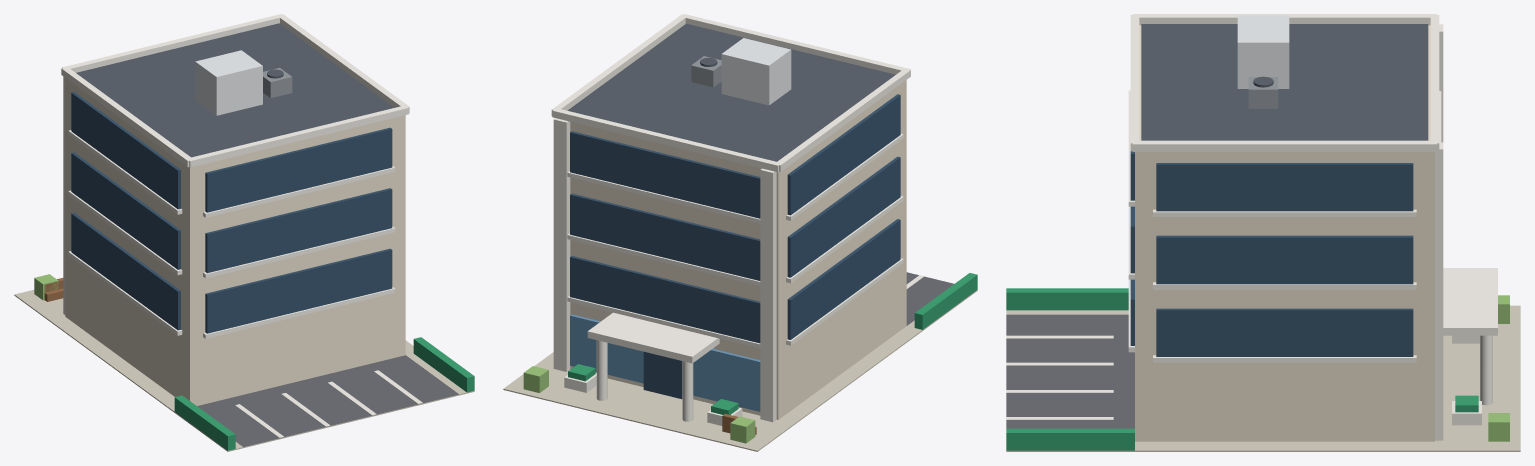
3 views of the same model, side by side, from view 1: azimuth 30°, elevation 25°; view 2: azimuth 150°, elevation 25°; view 3: azimuth 270°, elevation 25° (orthographic). The views are drawn at different scales.
Parts seen in each view (by area): view 1: block, window_band (×6), roof, car_park, parapet (×4), sill (×6), ground, plant_room, hedge (×2), pier, ac_unit_body; view 2: window_band (×6), block, roof, ground, pier (×2), parapet (×4), storefront, sill (×6), plant_room, canopy, door, hedge (+4 smaller); view 3: block, window_band (×3), roof, car_park, ground, parapet (×4), hedge (×2), sill (×3), canopy, plant_room, pier, column (+3 smaller).
Part boxes in pixels (box(x1,y1,x2,y2)): block: box(65, 78, 405, 405); window_band (×6): box(71, 92, 392, 333); roof: box(76, 23, 394, 157); car_park: box(197, 355, 458, 446); parapet (×4): box(61, 14, 409, 167); sill (×6): box(68, 130, 395, 338); ground: box(14, 289, 474, 451); plant_room: box(195, 50, 262, 115); hedge (×2): box(174, 337, 474, 450); pier: box(63, 76, 65, 314); ac_unit_body: box(263, 68, 292, 97); window_band (×6): box(570, 94, 900, 343); block: box(570, 80, 906, 419); roof: box(567, 23, 895, 161); ground: box(503, 290, 977, 451); pier (×2): box(553, 118, 776, 422); parapet (×4): box(551, 14, 910, 172); storefront: box(570, 314, 760, 411); sill (×6): box(567, 133, 903, 348); plant_room: box(721, 38, 791, 105); canopy: box(587, 312, 719, 363); door: box(643, 351, 682, 398); hedge: box(914, 273, 977, 329); block: box(1135, 25, 1434, 441); window_band (×3): box(1156, 163, 1413, 356); roof: box(1141, 24, 1428, 140); car_park: box(1006, 314, 1134, 428); ground: box(1006, 305, 1520, 451); parapet (×4): box(1130, 14, 1439, 151); hedge (×2): box(1006, 288, 1134, 450); sill (×3): box(1153, 209, 1416, 362); canopy: box(1443, 268, 1497, 335); plant_room: box(1237, 15, 1289, 88); pier: box(1435, 142, 1443, 440); column: box(1480, 335, 1492, 405).
Size of the model in its own units: 16 by 17.59 by 24.
